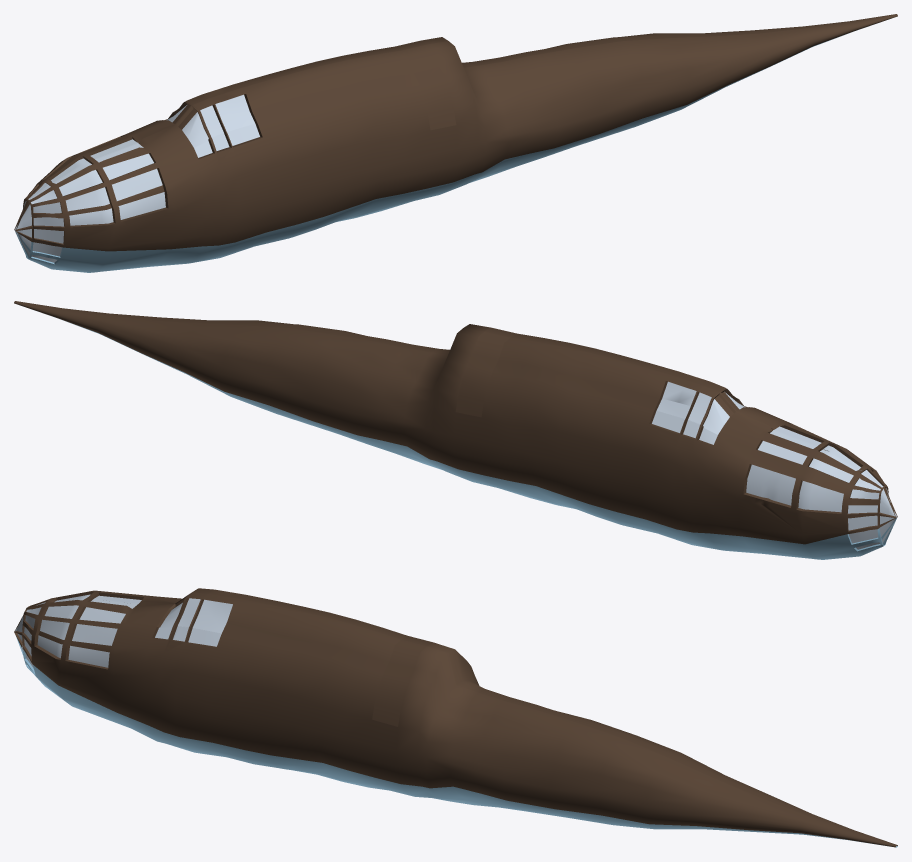
The model's file is Los2.gltf.
The picture shows the model from 3 angles, top to bottom: view 1: azimuth 30°, elevation 25°; view 2: azimuth 150°, elevation 25°; view 3: azimuth 330°, elevation 25°; orthographic projection.
Visible parts, largest first — view 1: kadlub; view 2: kadlub; view 3: kadlub.
Boxes of the visible parts, <box> form: kadlub: <box>14,14,897,272</box>; kadlub: <box>14,301,897,559</box>; kadlub: <box>14,588,897,847</box>.
Size of the model in its own units: 3.89 by 0.6699 by 0.4871.
